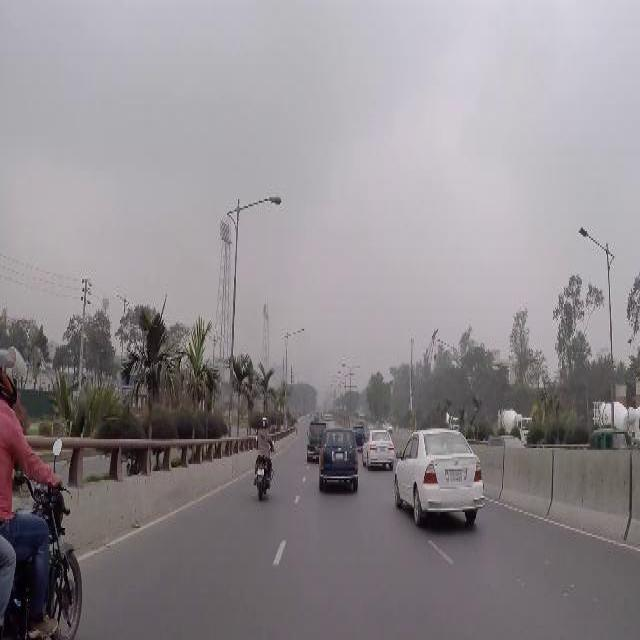bike: (2, 455, 85, 640), (252, 446, 273, 503)
vehicle: (396, 431, 487, 525), (319, 428, 360, 492), (593, 401, 640, 440), (362, 428, 396, 466), (499, 407, 532, 441), (307, 421, 329, 459), (590, 428, 629, 449), (354, 425, 366, 452), (446, 414, 458, 428), (383, 422, 393, 431)
